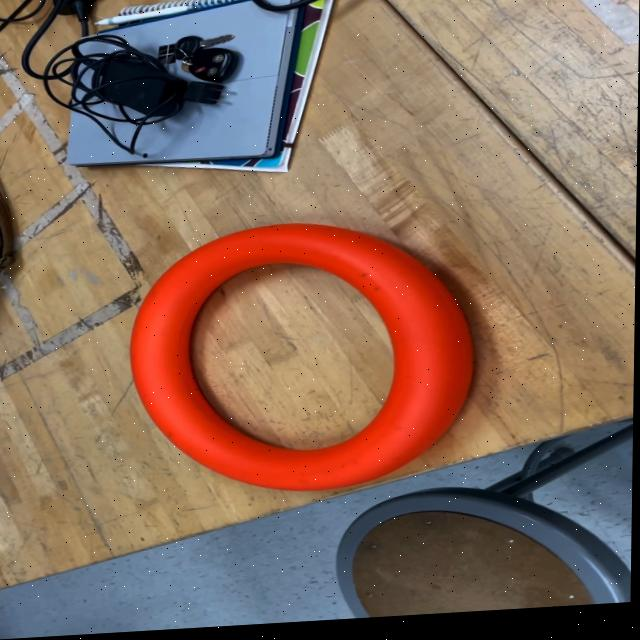note: (133, 219, 480, 503)
